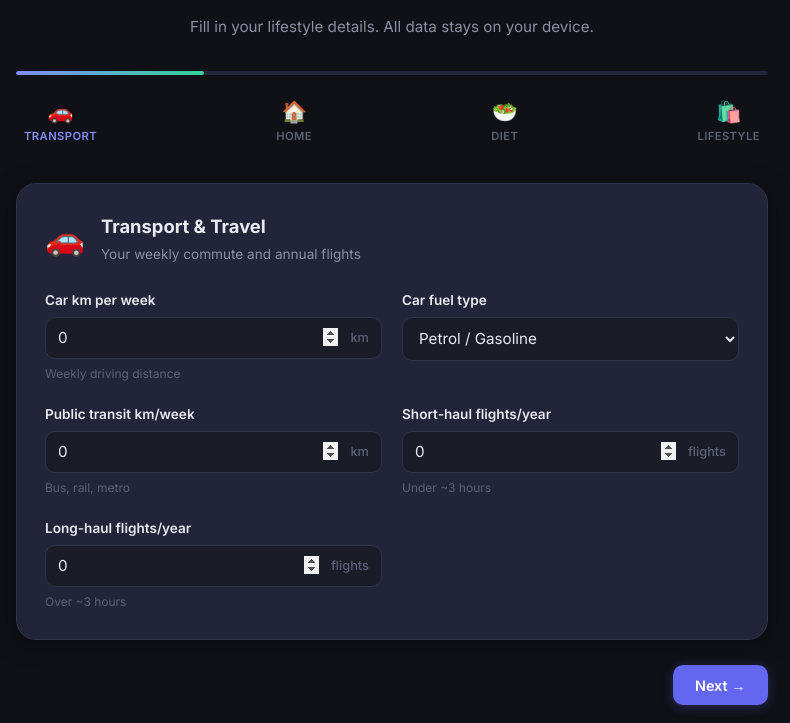
Test: Calculator Component › navigates between steps
The width and height of the screenshot is (790, 723).
(page scrolled)
Expected: the heading "Transport & Travel" is shown, 101,215 -> 266,237
// Click Next
Click the button "Next →": x=720, y=685 673,666 -> 768,705
(page scrolled)
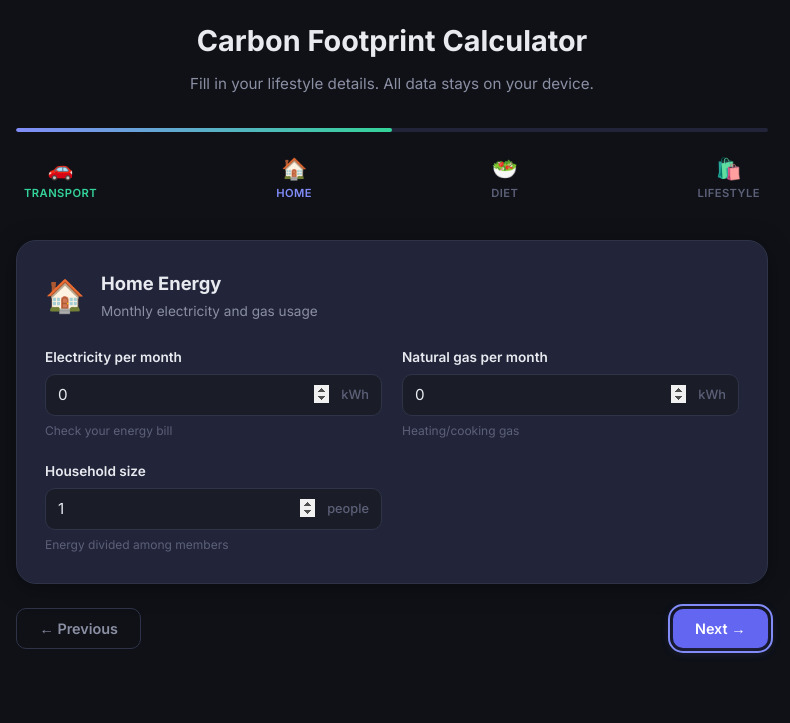
Expected: the heading "Home Energy" is shown, 101,272 -> 221,294
// Click Previous
Click the button "← Previous": x=79, y=628 16,608 -> 141,649
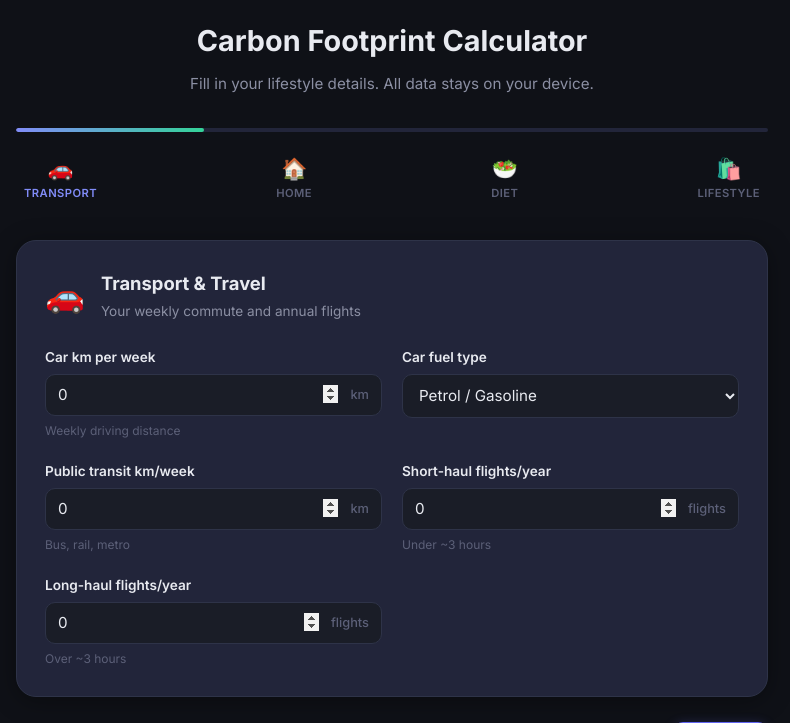
Expected: the heading "Transport & Travel" is shown, 101,272 -> 266,294
